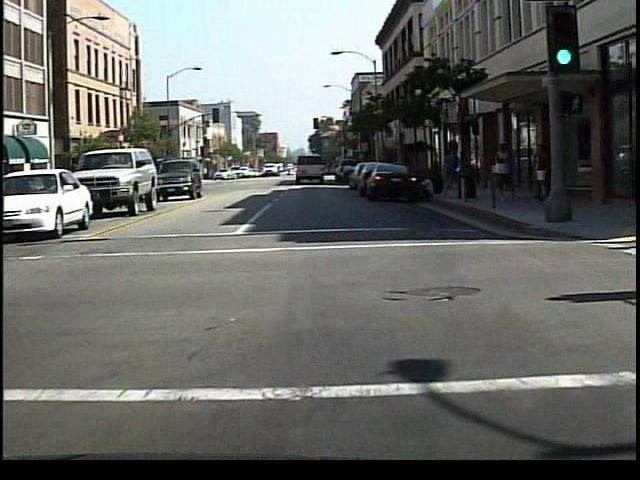person: (491, 138, 524, 210), (439, 144, 462, 198)
